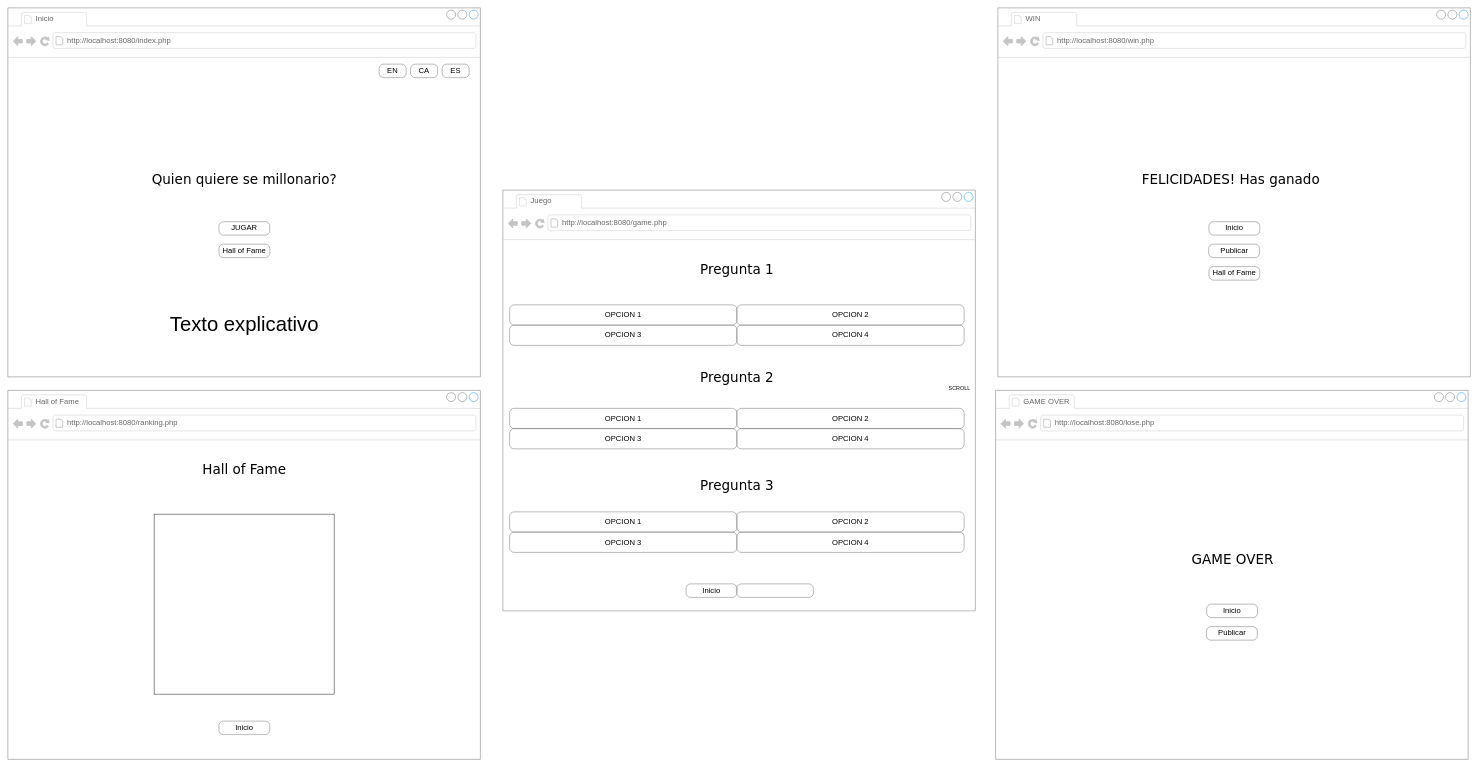
Image size: 1478x767. Some labels were removed from this diagram. Here are the shapes that lost their labels. From the top down, the centre of each, then its label:
the point at 244,604: Lista con puntuación y nombre
the point at 774,590: Siguiente pregunta
